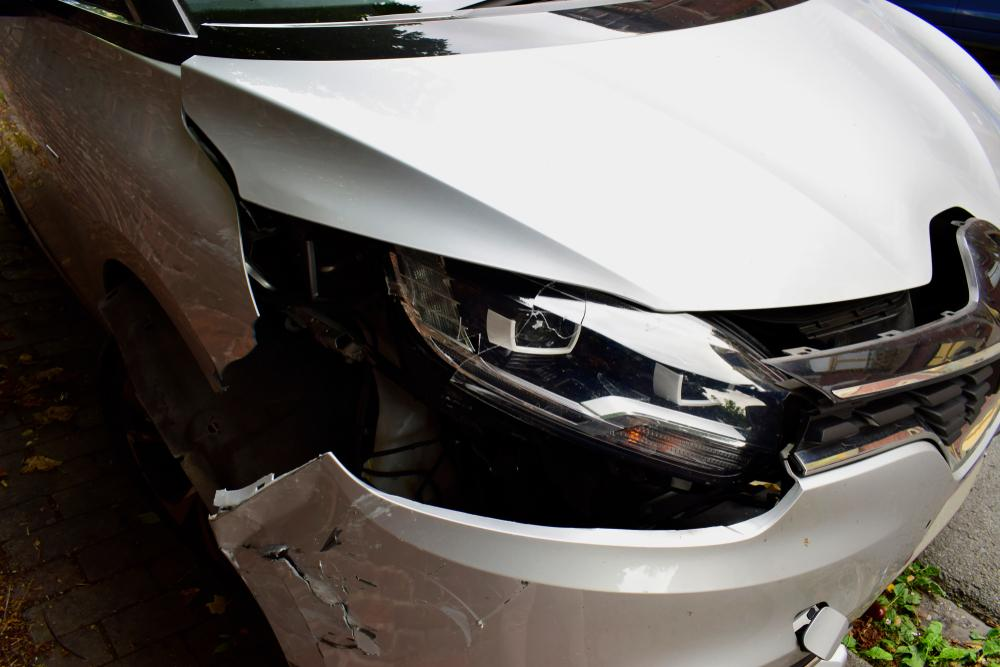crack: (261, 546, 381, 660)
lamp broken: (388, 257, 781, 474)
scratch: (241, 492, 395, 667)
